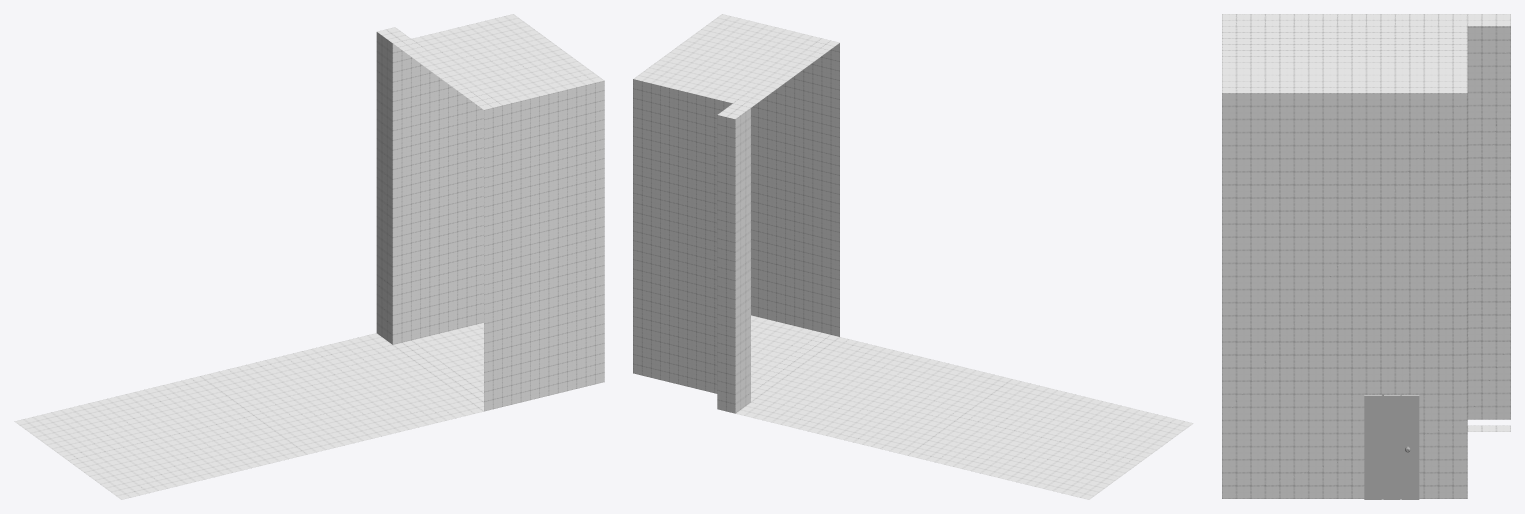
The model's file is Frame_wc.fbx.
3 renders of one model, left to right at view 1: azimuth 30°, elevation 25°; view 2: azimuth 150°, elevation 25°; view 3: azimuth 270°, elevation 25°, orthographic. The views are drawn at different scales.
Parts seen in each view (by area): view 1: Frame_wc__1_; view 2: Frame_wc__1_; view 3: Frame_wc__1_, Cube.
Boxes of the visible parts, x1=… form: Frame_wc__1_: x1=14, y1=14, x2=604, y2=499; Frame_wc__1_: x1=633, y1=14, x2=1193, y2=499; Frame_wc__1_: x1=1222, y1=14, x2=1510, y2=498; Cube: x1=1364, y1=394, x2=1419, y2=499.
Size of the model in its own units: 5267 by 3100 by 2000.
3 materials, 1 textured.
